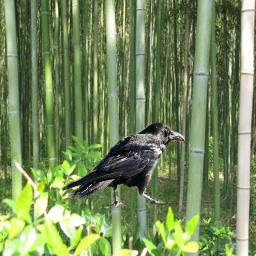Crow: (61, 121, 185, 211)
